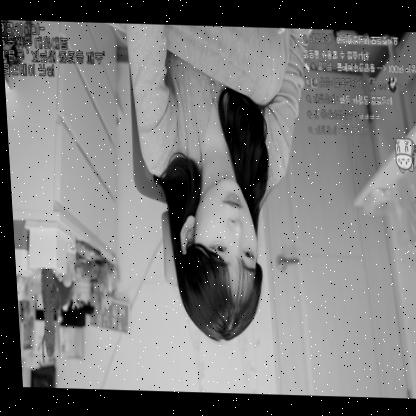streamer: (125, 22, 324, 344)
